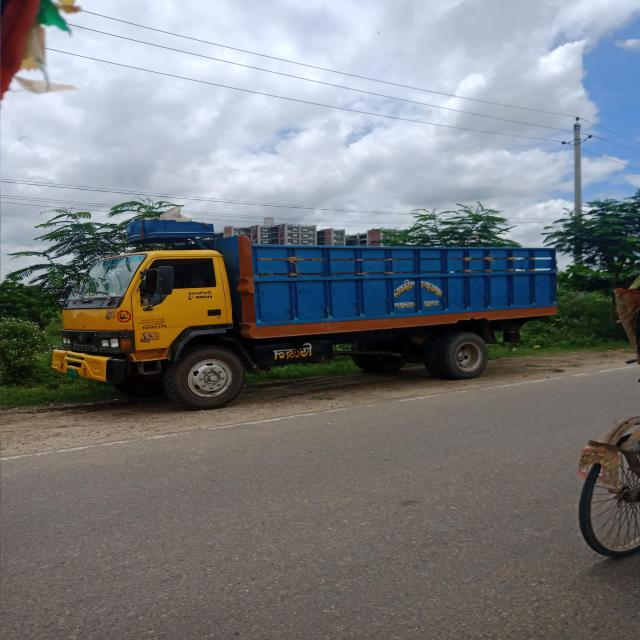truck: (53, 208, 564, 406)
